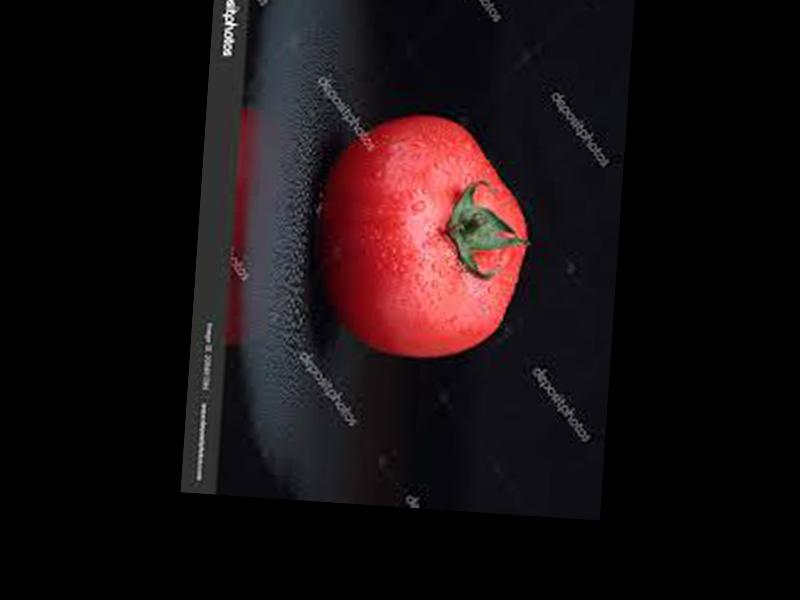Tomato: (310, 108, 537, 366)
